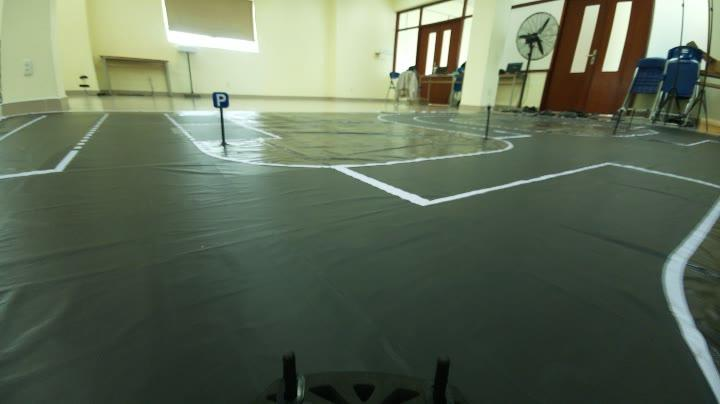parking: (207, 84, 236, 113)
